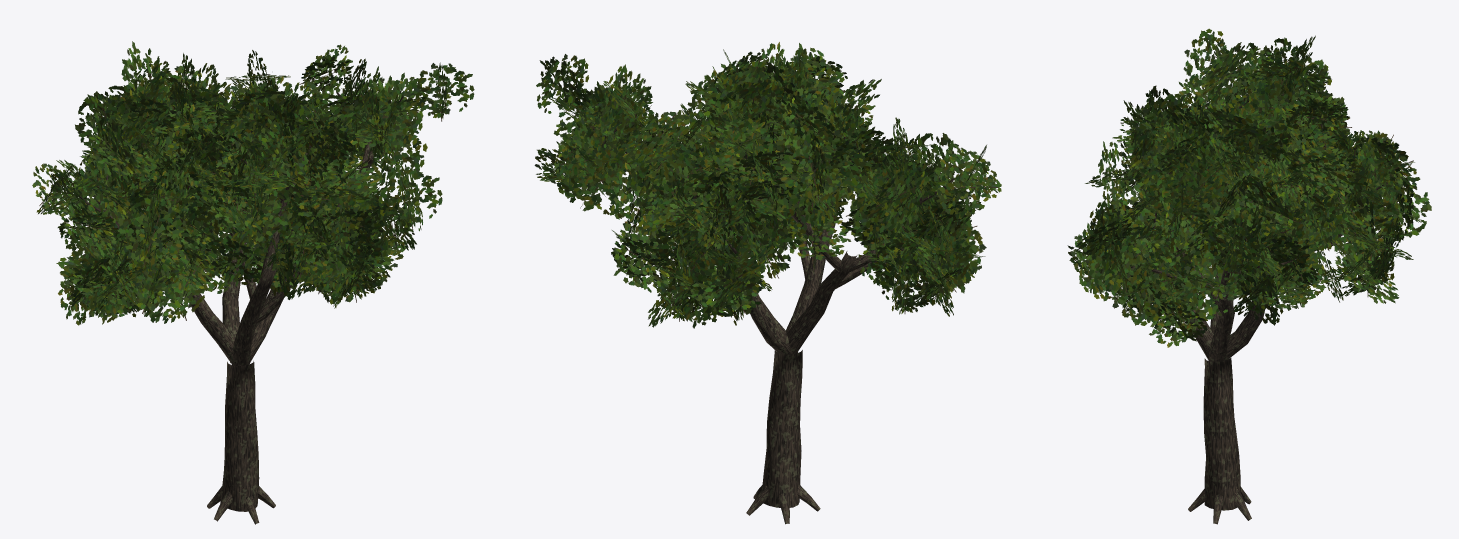
The model's file is oak_tree.glb.
3 renders of one model, left to right at view 1: azimuth 30°, elevation 25°; view 2: azimuth 150°, elevation 25°; view 3: azimuth 270°, elevation 25°, orthographic. The views are drawn at different scales.
Visible parts, largest first — view 1: Oak; view 2: Oak; view 3: Oak.
Part boxes in pixels (<box>): Oak: <box>32,41,474,524</box>; Oak: <box>534,42,1001,524</box>; Oak: <box>1067,28,1431,524</box>.
Size of the model in its own units: 10.13 by 10 by 7.71.
2 materials, 2 textured.
